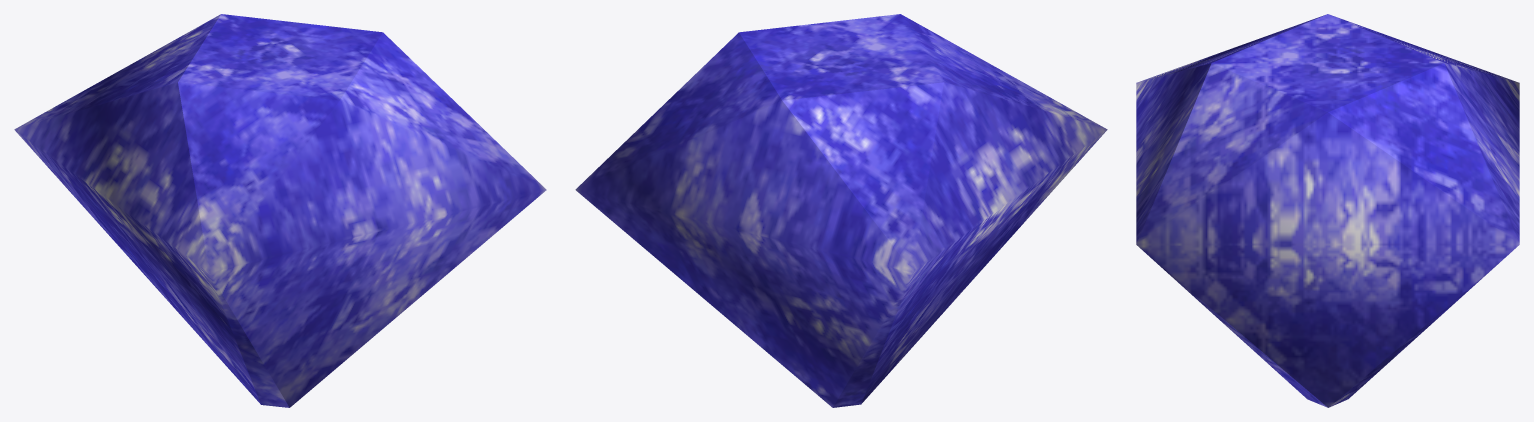
File: ManaToken_L.FBX
3 views of the same model, side by side, from view 1: azimuth 30°, elevation 25°; view 2: azimuth 150°, elevation 25°; view 3: azimuth 270°, elevation 25° (orthographic).
Parts seen in each view (by area): view 1: ManaCrystal_Gold; view 2: ManaCrystal_Gold; view 3: ManaCrystal_Gold.
Part boxes in pixels (left/top/right/bottom): ManaCrystal_Gold: left=14, top=14, right=546, bottom=407; ManaCrystal_Gold: left=575, top=14, right=1107, bottom=407; ManaCrystal_Gold: left=1136, top=14, right=1519, bottom=407.
Bounding box in the file's own units: 18.33 × 17.77 × 18.33.
